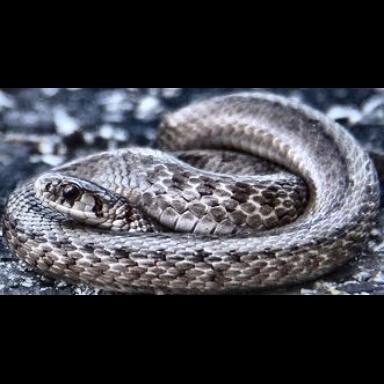snake: (10, 92, 384, 297)
